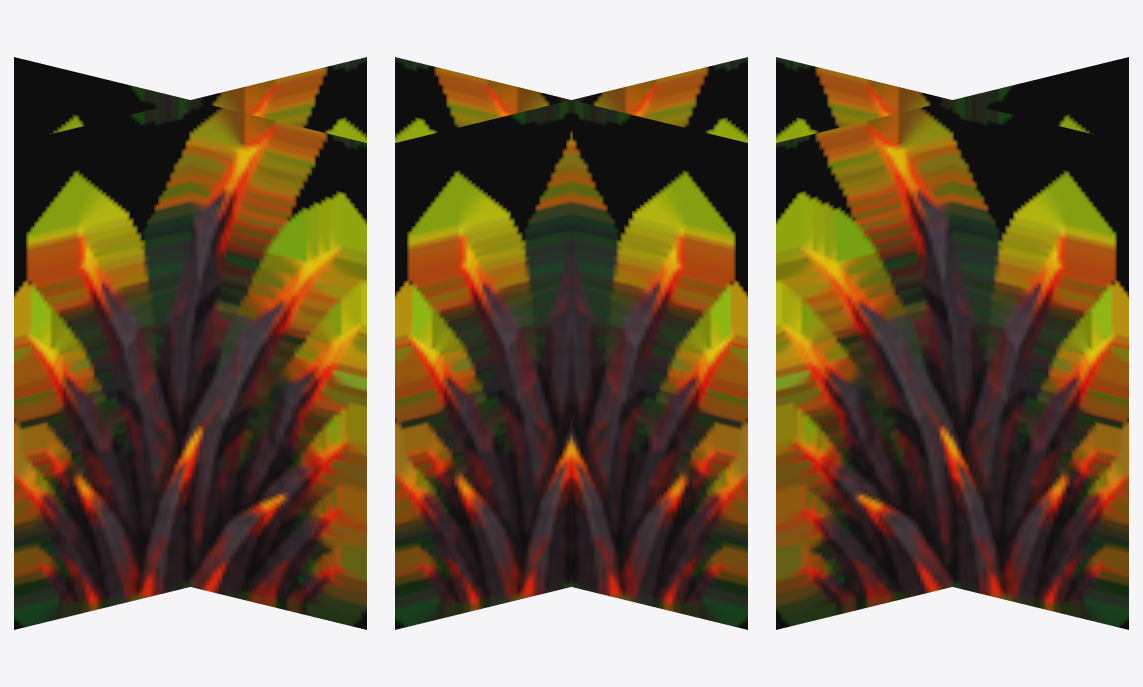
The model's file is h_braises_touffe.glb.
The picture shows the model from 3 angles, left to right: view 1: azimuth 30°, elevation 25°; view 2: azimuth 150°, elevation 25°; view 3: azimuth 270°, elevation 25°; orthographic projection.
Parts seen in each view (by area): view 1: h_braises_touffe; view 2: h_braises_touffe; view 3: h_braises_touffe.
Boxes of the visible parts, left/top/right/bottom form: h_braises_touffe: left=14, top=57, right=366, bottom=629; h_braises_touffe: left=395, top=57, right=747, bottom=629; h_braises_touffe: left=776, top=57, right=1128, bottom=629.
Size of the model in its own units: 0.2427 by 0.32 by 0.2102.
Materials: 1 (1 with a texture image).
